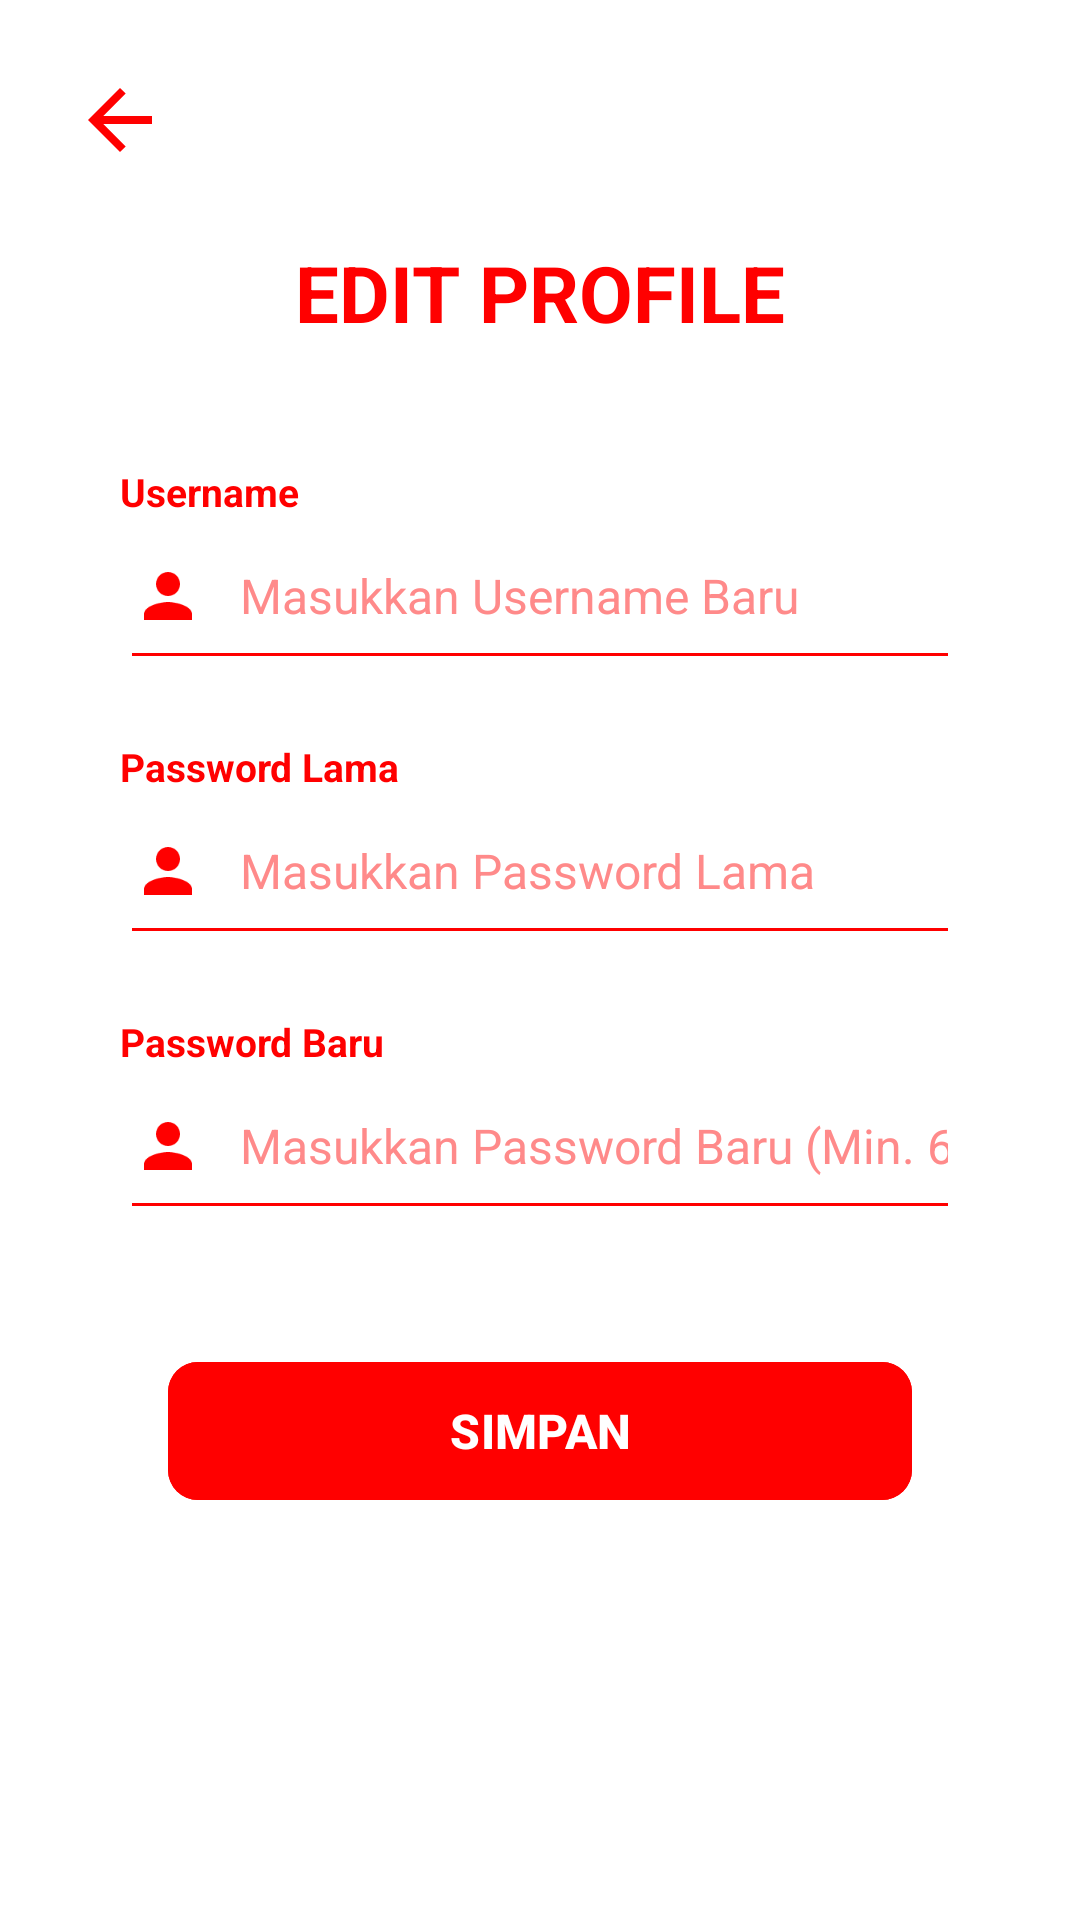

Named icons in this screenshot (1080*1920) and their bounding boxes, box=[x1, y1, x2, y2]:
Kembali: box=[88, 88, 152, 152]
